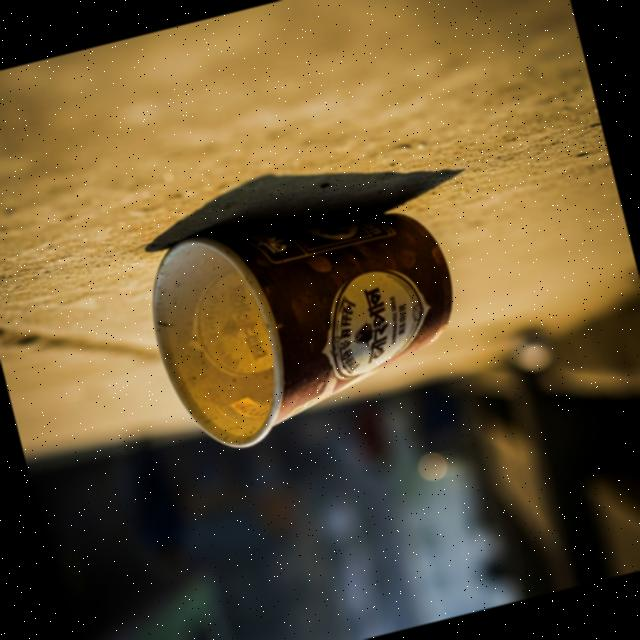paper: (130, 172, 482, 466)
